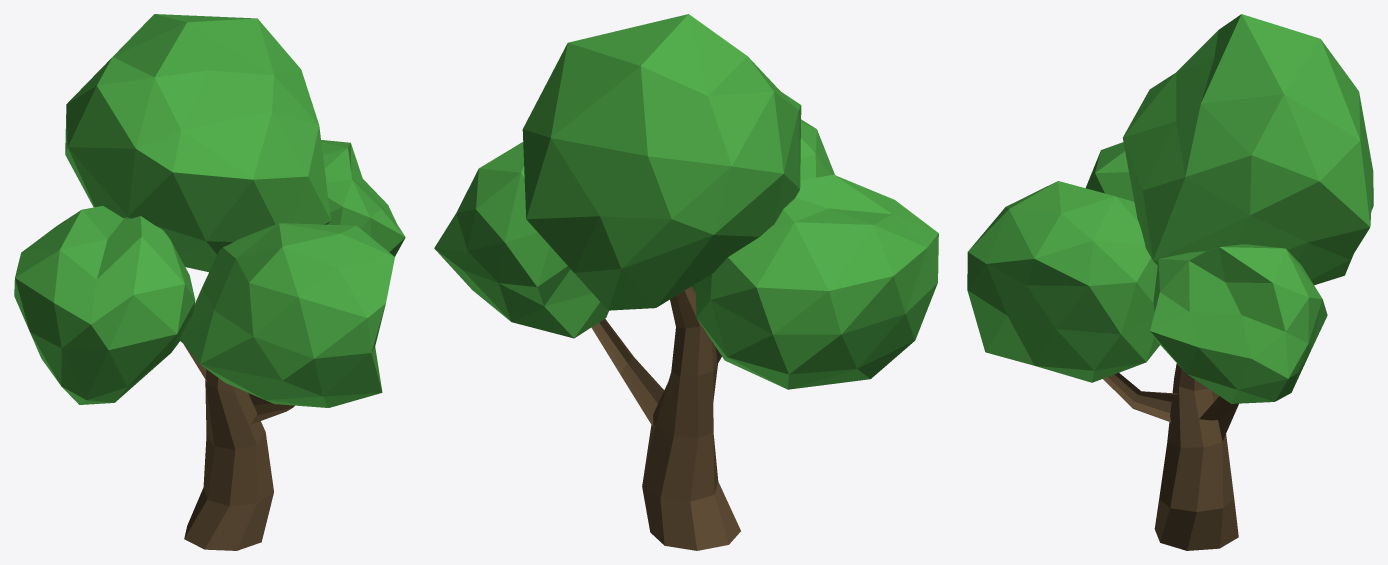
Rendered from lowpoly_tree2.glb.
The picture shows the model from 3 angles, left to right: view 1: azimuth 30°, elevation 25°; view 2: azimuth 150°, elevation 25°; view 3: azimuth 270°, elevation 25°; orthographic projection. The views are drawn at different scales.
Visible parts, largest first — view 1: Cylinder; view 2: Cylinder; view 3: Cylinder.
Part boxes in pixels (bbox=[...]): Cylinder: bbox=[14, 14, 405, 550]; Cylinder: bbox=[434, 14, 938, 550]; Cylinder: bbox=[967, 14, 1373, 550].
Bounding box in the file's own units: 609 × 737 × 531.
